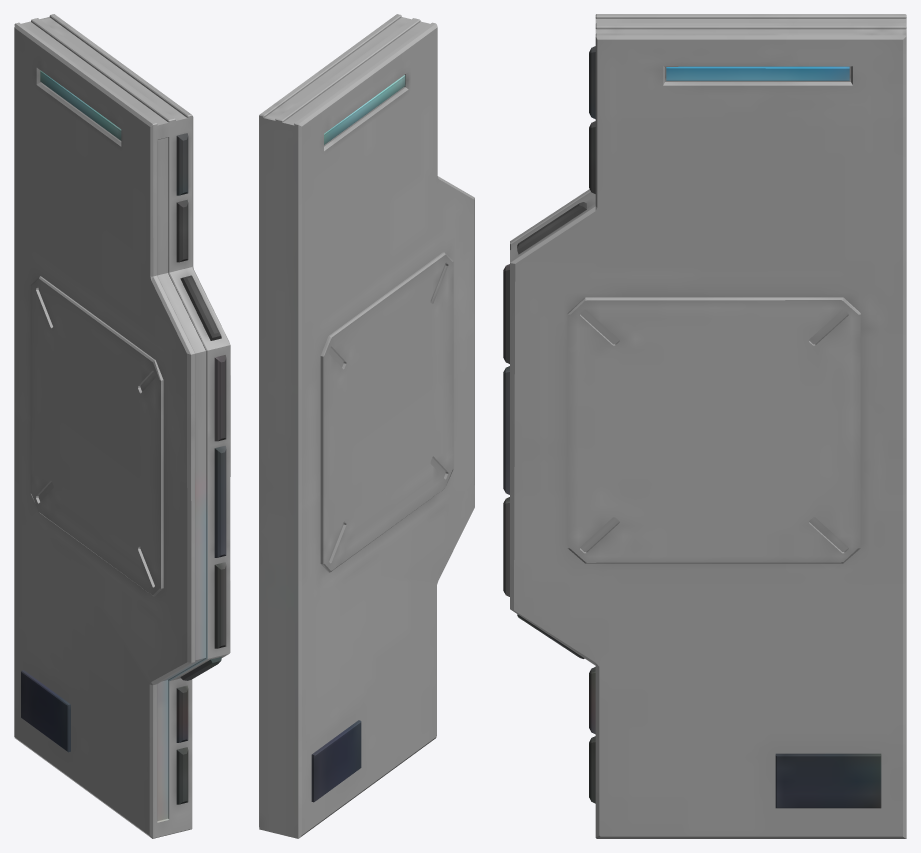
File: SM_Door_R_SF_a91864.glb
The picture shows the model from 3 angles, left to right: view 1: azimuth 30°, elevation 25°; view 2: azimuth 150°, elevation 25°; view 3: azimuth 270°, elevation 25°; orthographic projection. The views are drawn at different scales.
Size of the model in its own units: 0.1689 by 2.32 by 1.05.
1 material, 1 textured.
